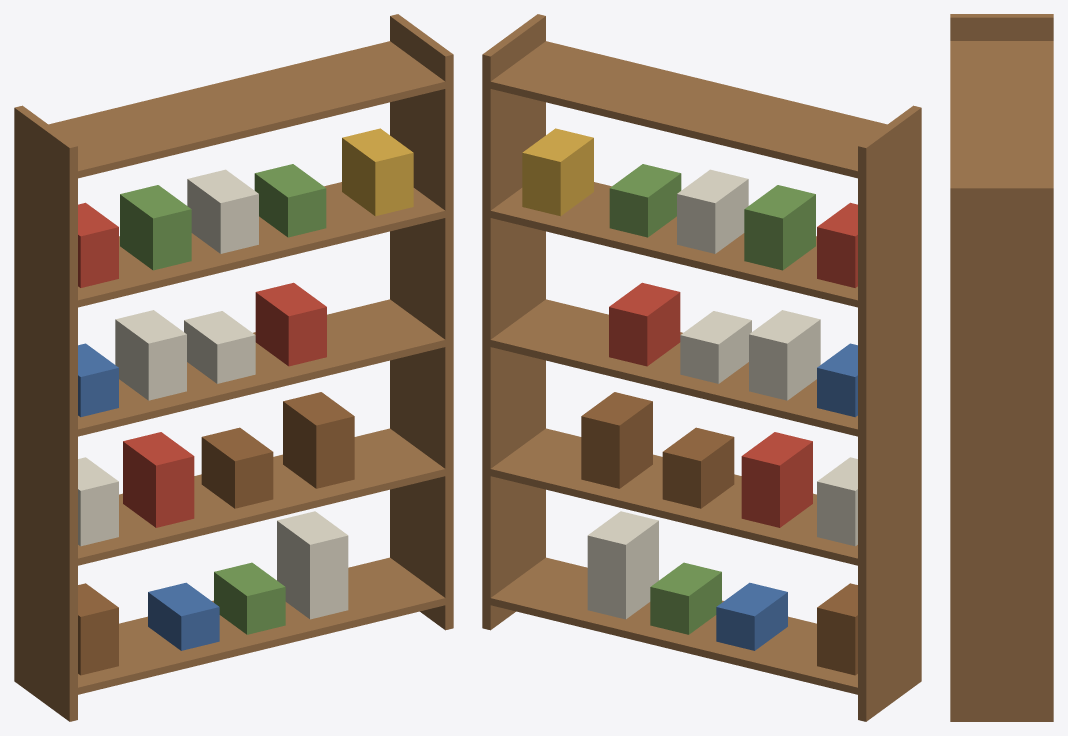
Rendered from shelf.obj.
3 views of the same model, side by side, from view 1: azimuth 30°, elevation 25°; view 2: azimuth 150°, elevation 25°; view 3: azimuth 270°, elevation 25° (orthographic). The views are drawn at different scales.
Parts seen in each view (by area): view 1: shelf_0, shelf_1, shelf_23, shelf_2, shelf_12, shelf_7, shelf_17, shelf_6, shelf_11, shelf_9, shelf_14, shelf_22 (+12 smaller); view 2: shelf_0, shelf_1, shelf_23, shelf_2, shelf_12, shelf_7, shelf_17, shelf_6, shelf_11, shelf_9, shelf_14, shelf_22 (+12 smaller); view 3: shelf_1, shelf_23, shelf_0.
Part boxes in pixels (left/top/right/bottom): shelf_0: left=14, top=105, right=77, bottom=721; shelf_1: left=390, top=14, right=453, bottom=630; shelf_23: left=48, top=41, right=445, bottom=178; shelf_2: left=75, top=557, right=445, bottom=695; shelf_12: left=76, top=299, right=445, bottom=436; shelf_7: left=75, top=428, right=445, bottom=565; shelf_17: left=75, top=182, right=445, bottom=307; shelf_6: left=277, top=511, right=348, bottom=619; shelf_11: left=283, top=392, right=354, bottom=488; shelf_9: left=123, top=432, right=194, bottom=527; shelf_14: left=115, top=310, right=186, bottom=400; shelf_22: left=342, top=128, right=413, bottom=216; shelf_0: left=858, top=105, right=921, bottom=721; shelf_1: left=482, top=14, right=545, bottom=630; shelf_23: left=488, top=41, right=887, bottom=178; shelf_2: left=488, top=557, right=860, bottom=695; shelf_12: left=488, top=299, right=857, bottom=436; shelf_7: left=488, top=428, right=860, bottom=565; shelf_17: left=488, top=182, right=860, bottom=307; shelf_6: left=587, top=511, right=658, bottom=619; shelf_11: left=581, top=392, right=652, bottom=488; shelf_9: left=741, top=432, right=812, bottom=527; shelf_14: left=749, top=310, right=820, bottom=400; shelf_22: left=522, top=128, right=593, bottom=216; shelf_1: left=950, top=184, right=1053, bottom=721; shelf_23: left=950, top=41, right=1053, bottom=184; shelf_0: left=950, top=14, right=1053, bottom=40.
Size of the model in its own units: 1.4 by 2 by 0.35.
